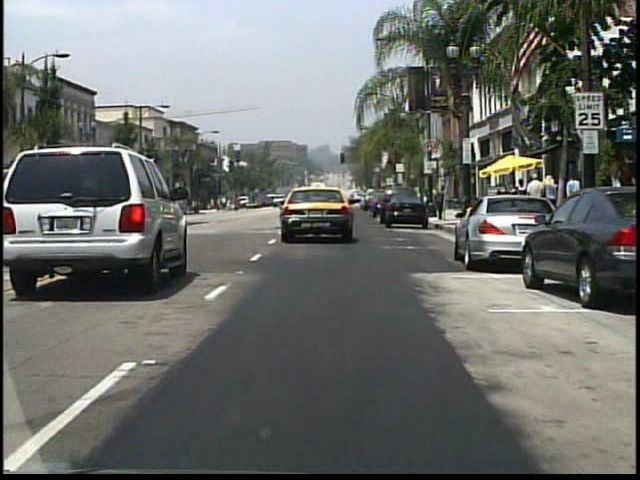person: (600, 161, 626, 241), (562, 172, 583, 225), (526, 173, 547, 225), (541, 174, 560, 223), (513, 177, 529, 218), (252, 192, 259, 208)
